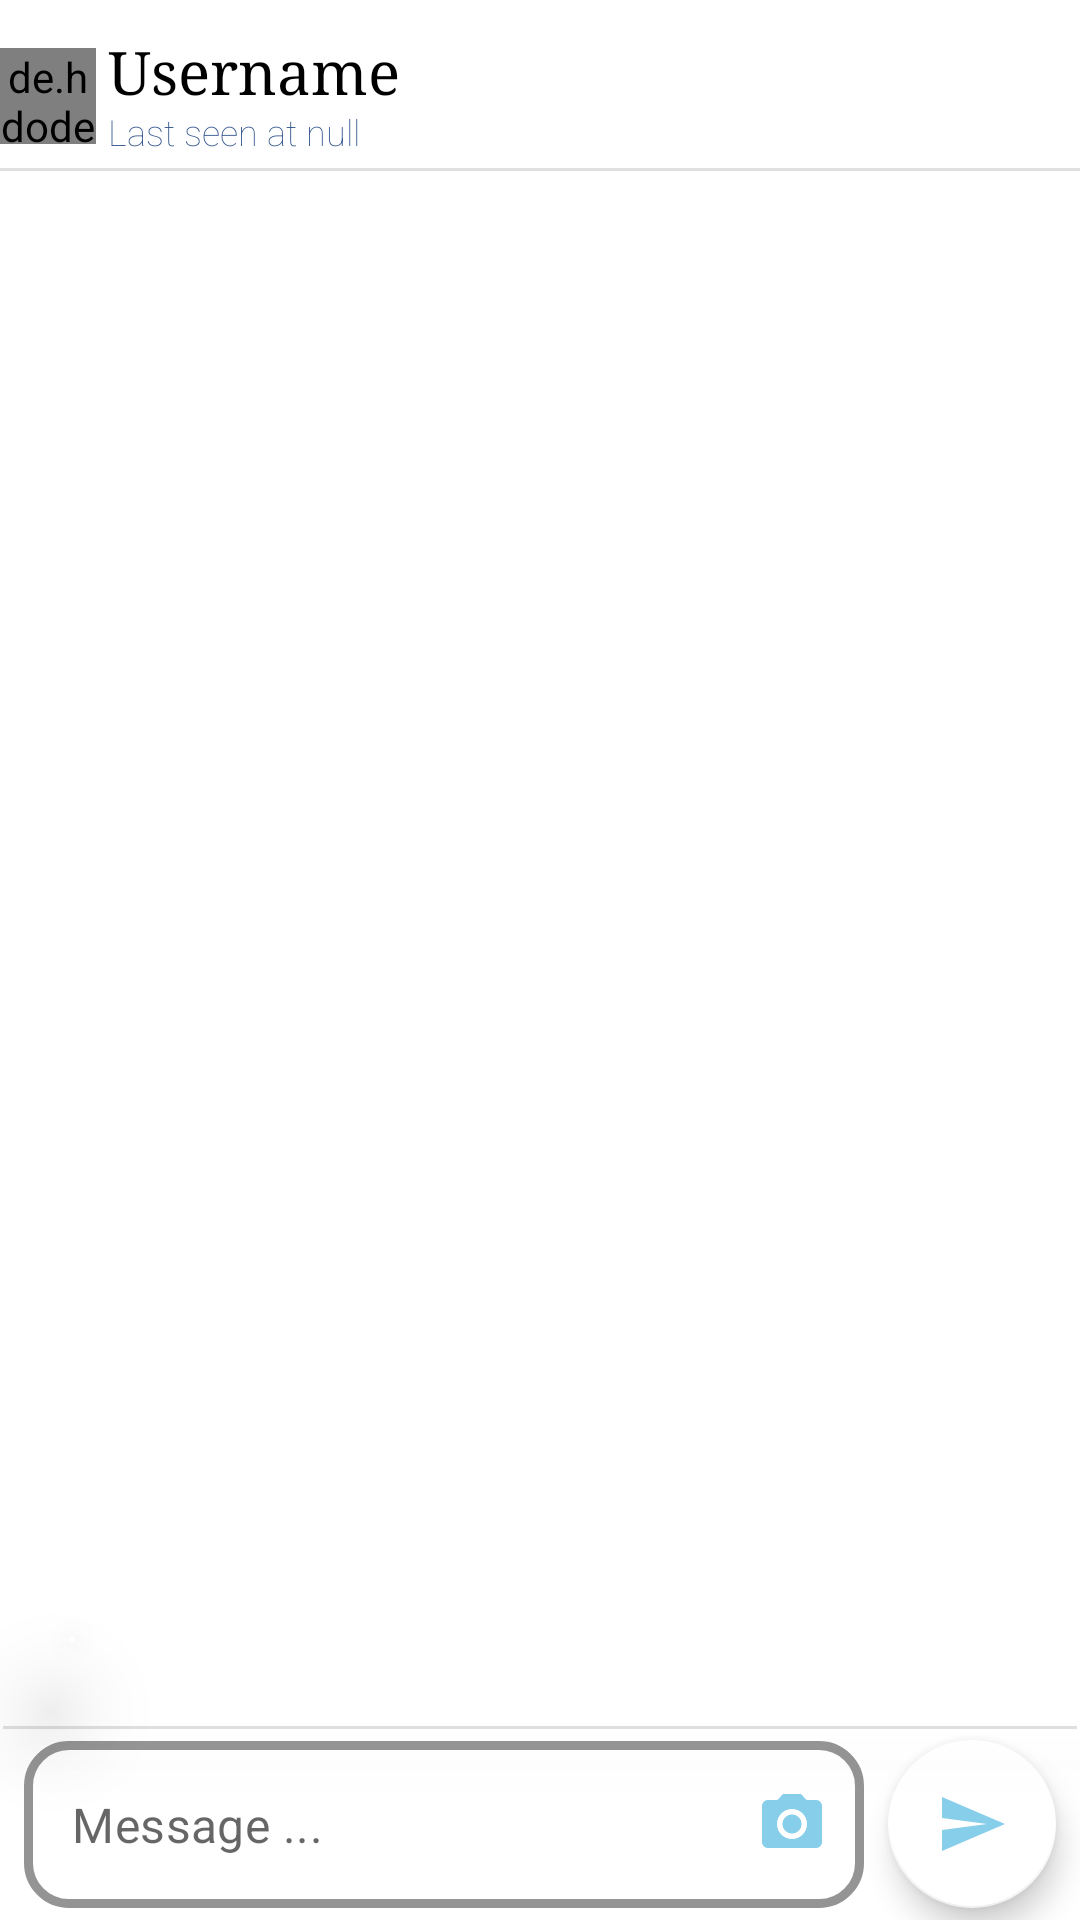

Icons on this 1080px×1920px Android screen, each with its box as (x1, y1, x2, y2):
send: (895, 1797, 1004, 1863)
